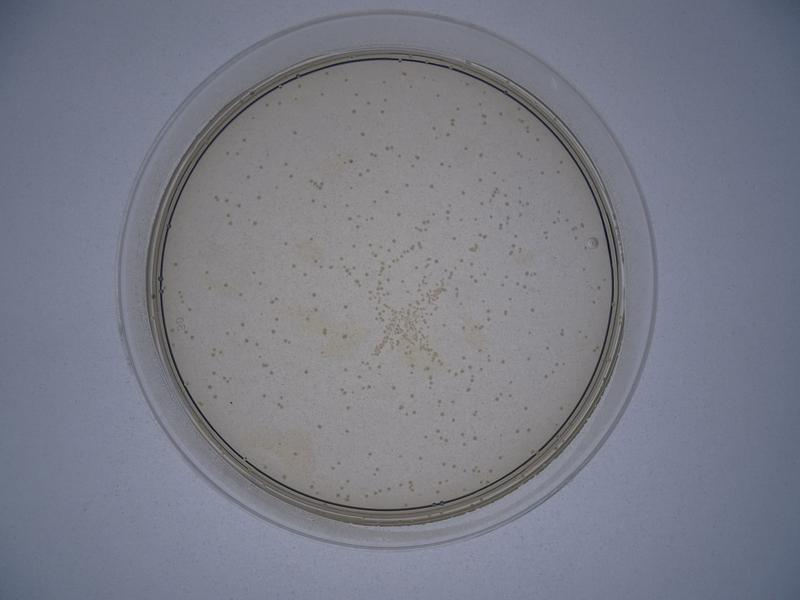colony: (314, 421, 325, 431), (394, 211, 405, 220), (302, 367, 312, 376), (536, 168, 546, 177), (438, 321, 449, 329), (383, 188, 392, 197), (522, 404, 531, 413), (309, 290, 319, 298), (359, 128, 367, 138), (589, 299, 599, 307), (205, 383, 215, 391), (249, 269, 259, 277), (292, 127, 299, 138), (308, 235, 317, 243), (340, 332, 349, 340), (292, 450, 301, 458), (223, 329, 231, 338), (203, 269, 213, 276), (433, 91, 443, 98), (557, 403, 564, 413), (460, 188, 467, 198), (222, 281, 230, 289), (238, 320, 246, 328), (524, 355, 532, 363), (476, 175, 484, 183), (400, 70, 408, 78), (341, 303, 350, 310), (428, 183, 437, 190), (171, 260, 180, 267), (269, 327, 278, 334), (255, 194, 263, 201), (261, 392, 269, 399), (351, 108, 358, 116), (281, 161, 289, 168), (430, 124, 438, 131), (511, 233, 519, 240), (529, 305, 535, 314), (290, 263, 297, 270), (343, 429, 351, 435), (318, 92, 326, 98), (367, 448, 373, 456), (462, 145, 470, 151), (283, 240, 289, 247)
